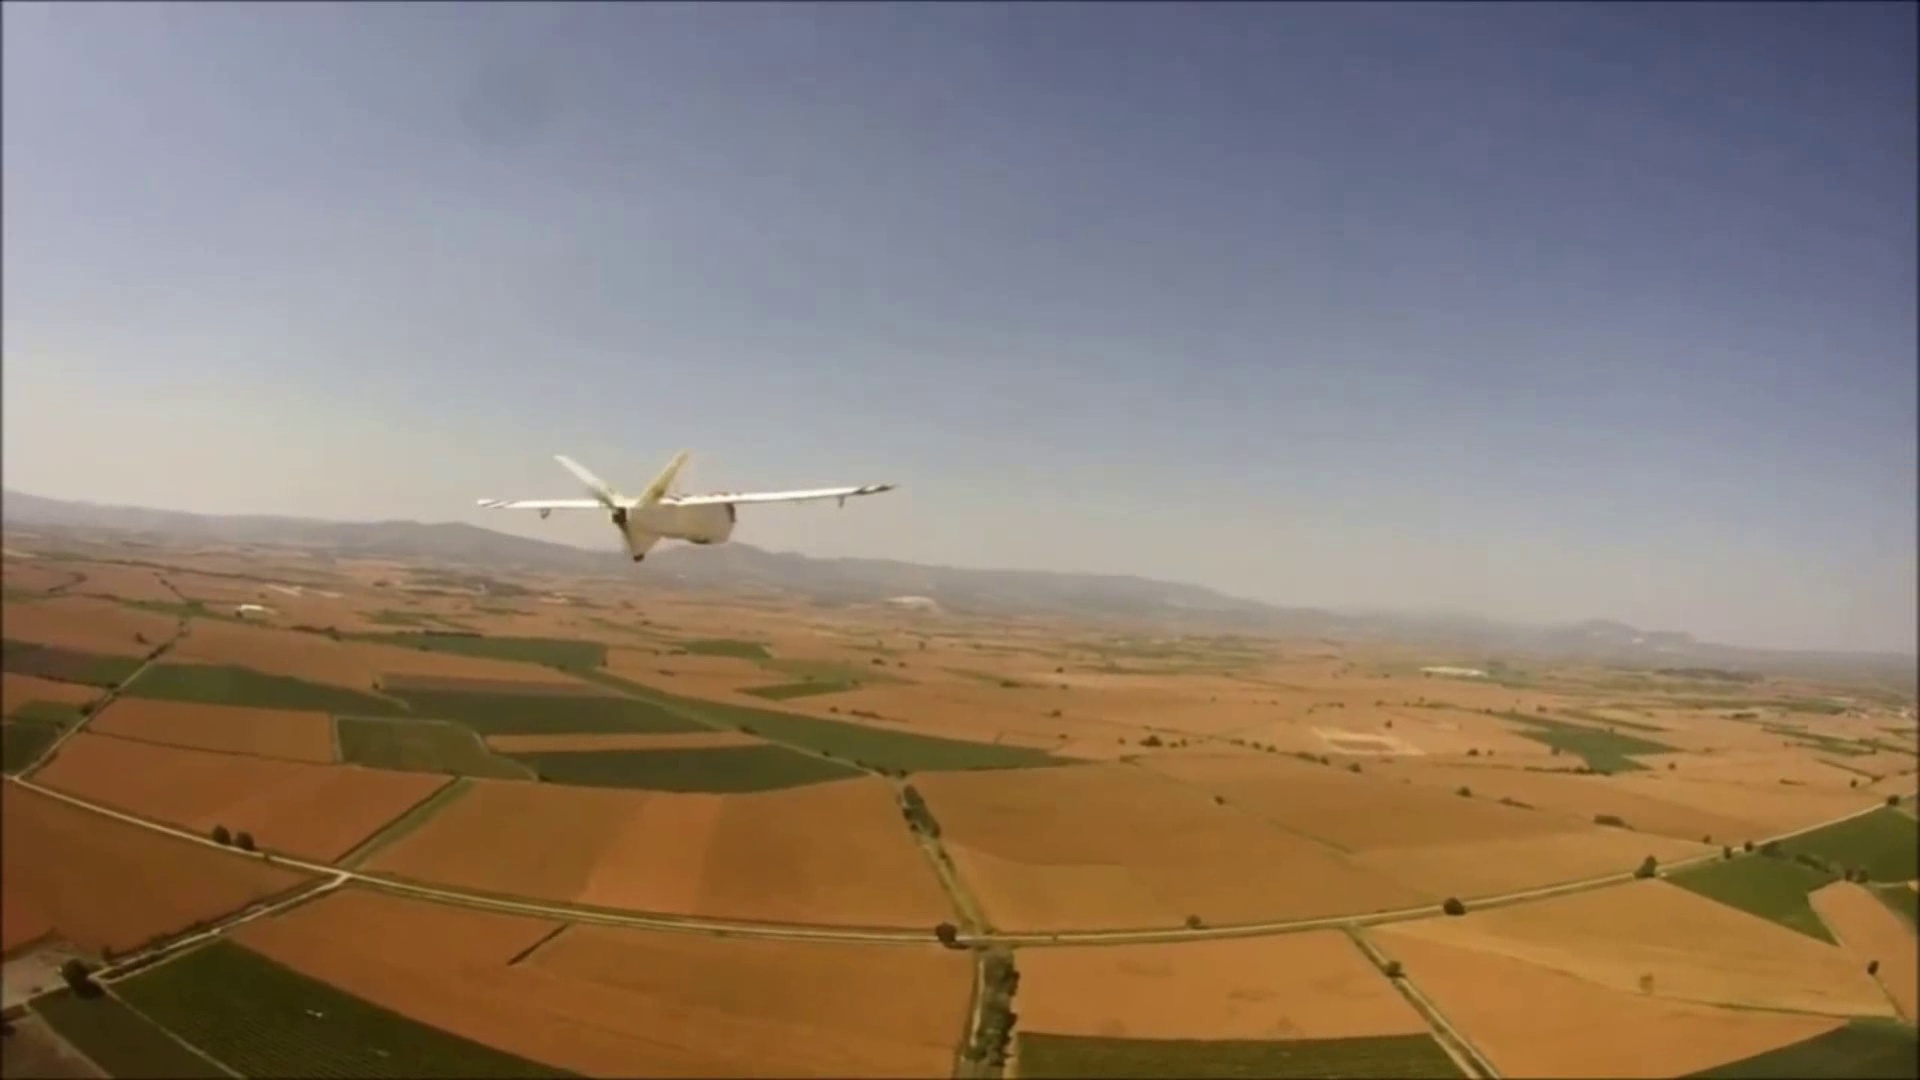airplane: (467, 447, 902, 563)
